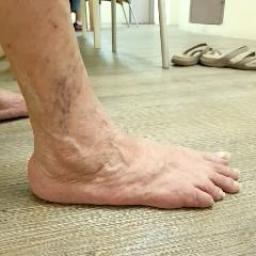Lateral View -Right Foot-: (10, 83, 250, 233)
